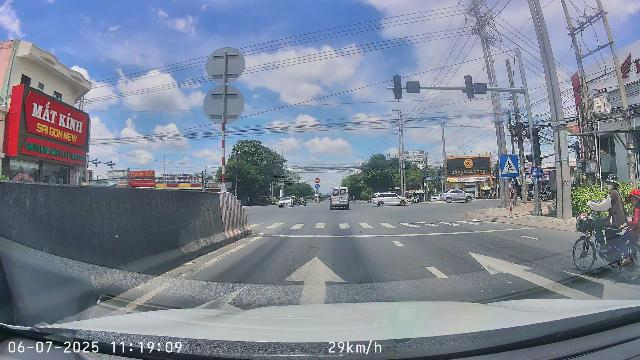423a-duong-nguoi-di-bo-sang-ngang-1: (499, 155, 519, 178)
